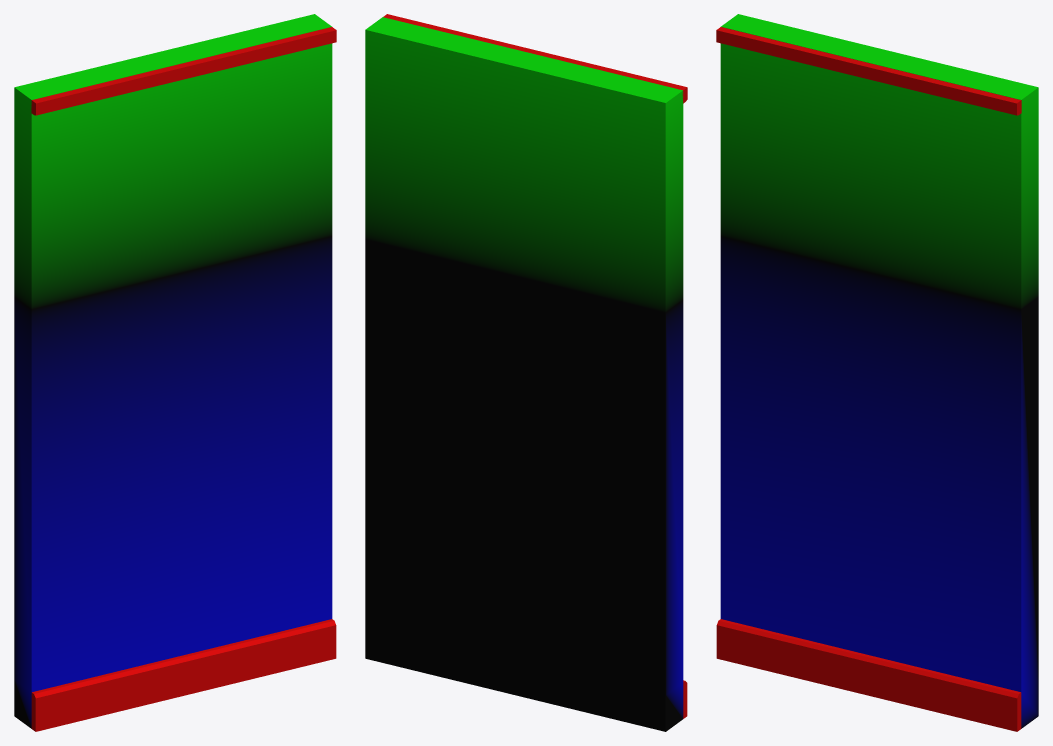
Rendered from WallV4.fbx.
The picture shows the model from 3 angles, left to right: view 1: azimuth 30°, elevation 25°; view 2: azimuth 150°, elevation 25°; view 3: azimuth 330°, elevation 25°; orthographic projection.
Parts seen in each view (by area): view 1: WallV4; view 2: WallV4; view 3: WallV4.
Boxes of the visible parts, x1=… form: WallV4: x1=14, y1=14, x2=336, y2=731; WallV4: x1=365, y1=14, x2=687, y2=731; WallV4: x1=716, y1=14, x2=1038, y2=731.
Size of the model in its own units: 200 by 400 by 25.17.
